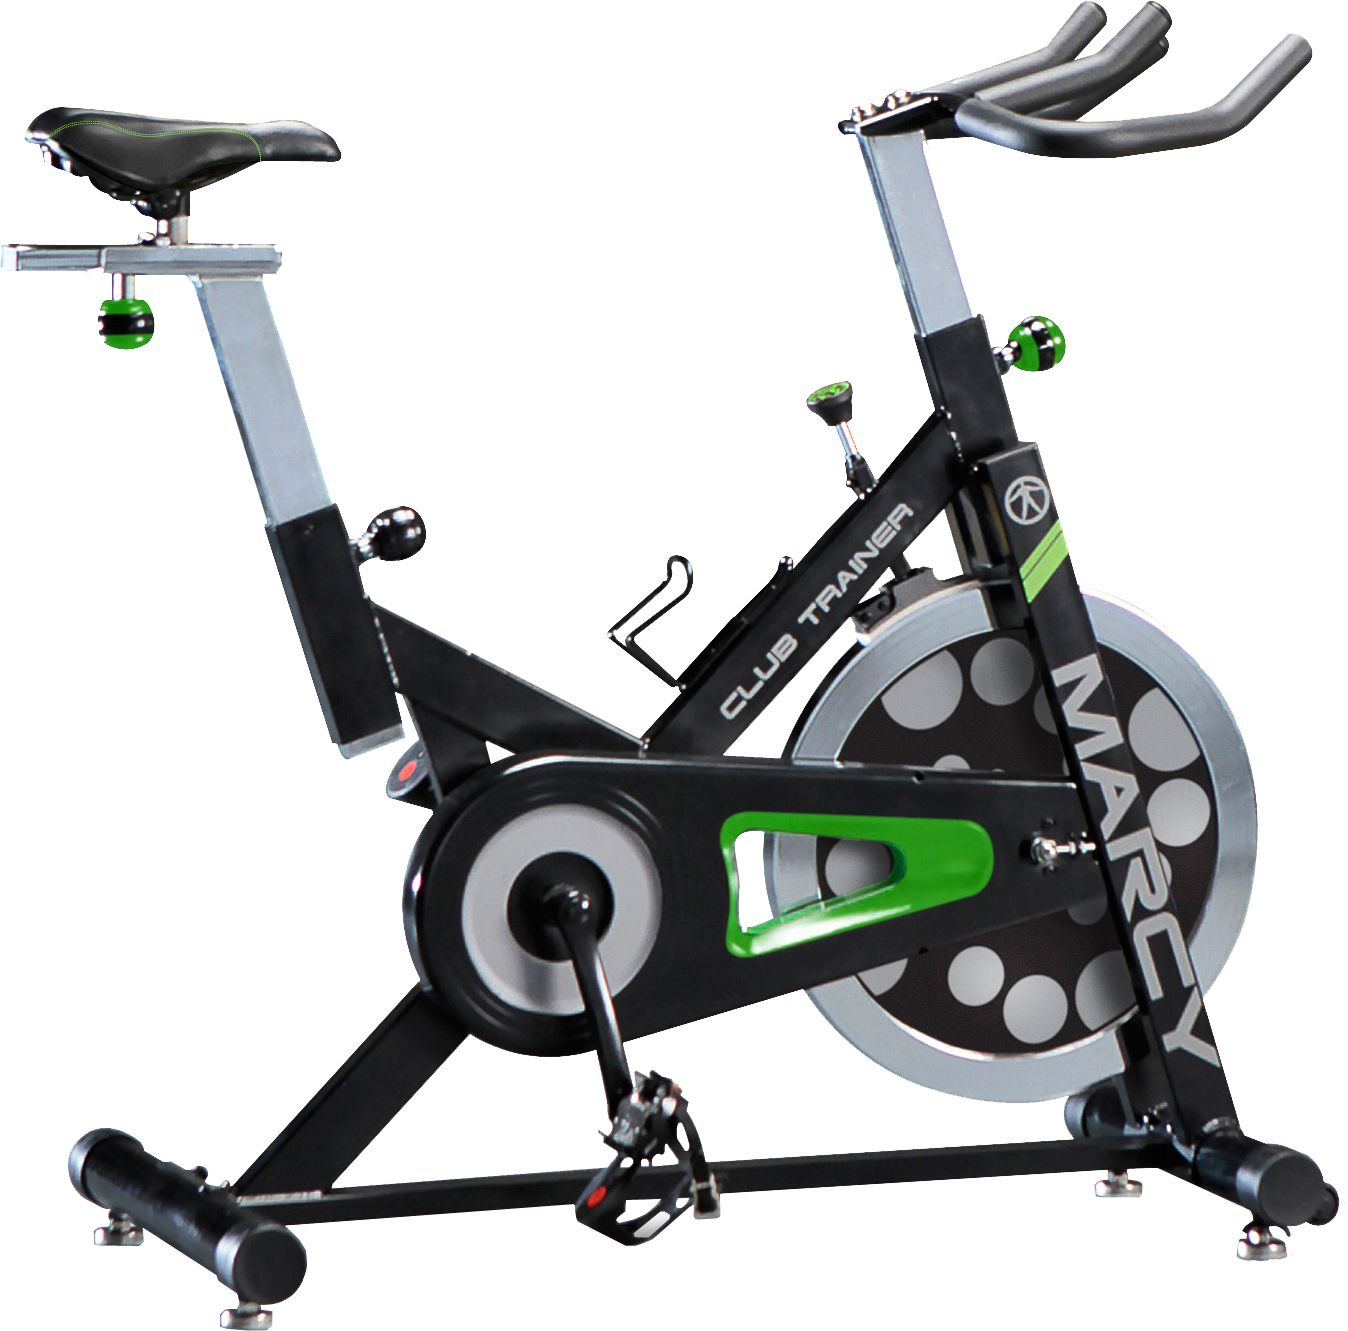gym_bike: (30, 1, 1338, 1331)
